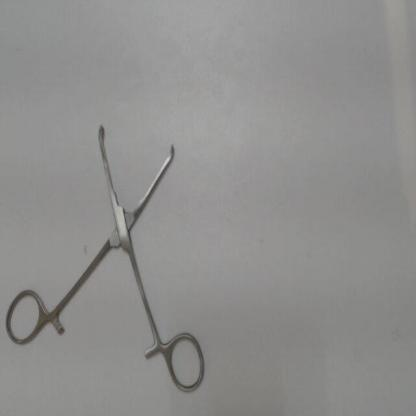Allis Tissue Forceps: (0, 119, 209, 400)
